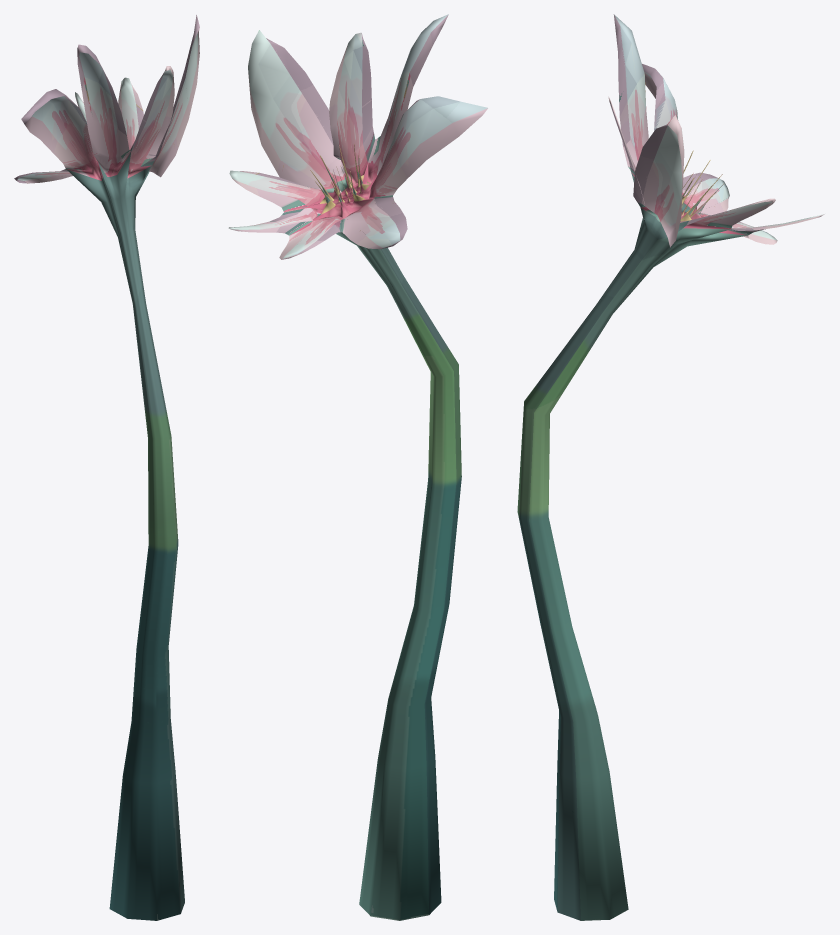
The model's file is FlowerBud.obj.
3 renders of one model, left to right at view 1: azimuth 30°, elevation 25°; view 2: azimuth 150°, elevation 25°; view 3: azimuth 270°, elevation 25°, orthographic. The views are drawn at different scales.
Parts seen in each view (by area): view 1: almondtreeflower.001; view 2: almondtreeflower.001; view 3: almondtreeflower.001.
Part boxes in pixels (<box>): almondtreeflower.001: <box>14,15,199,920</box>; almondtreeflower.001: <box>228,14,487,920</box>; almondtreeflower.001: <box>517,14,824,920</box>.
Bounding box in the file's own units: 1.87 × 7.66 × 2.48.
